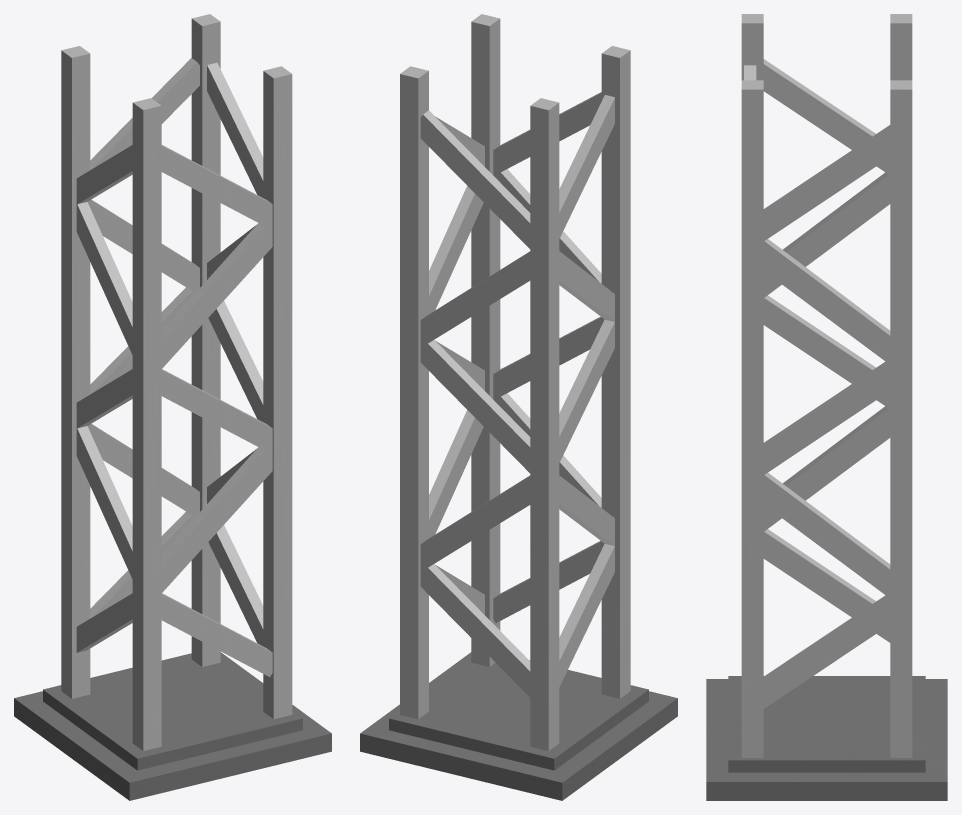
File: Tower.FBX
3 views of the same model, side by side, from view 1: azimuth 30°, elevation 25°; view 2: azimuth 150°, elevation 25°; view 3: azimuth 270°, elevation 25° (orthographic). The views are drawn at different scales.
Parts seen in each view (by area): view 1: Tower; view 2: Tower; view 3: Tower.
Boxes of the visible parts, x1,y1,x2,y2 form: Tower: [14, 14, 331, 800]; Tower: [360, 14, 677, 800]; Tower: [706, 14, 947, 800].
Bounding box in the file's own units: 0.1228 × 0.3894 × 0.1216.
